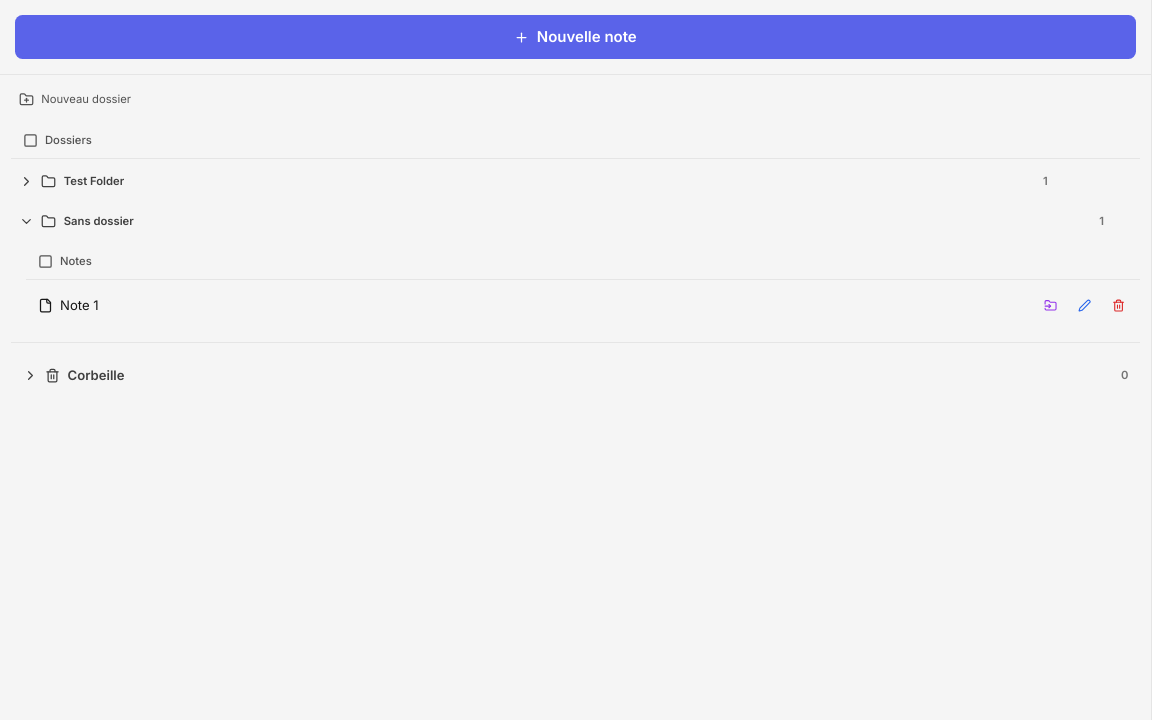
Test: Sidebar › Trash Management › should expand trash when clicking
This screenshot has width=1152, height=720.
Step 1. Click the text "Corbeille" → coordinates (96, 375), box [68,366,124,385]
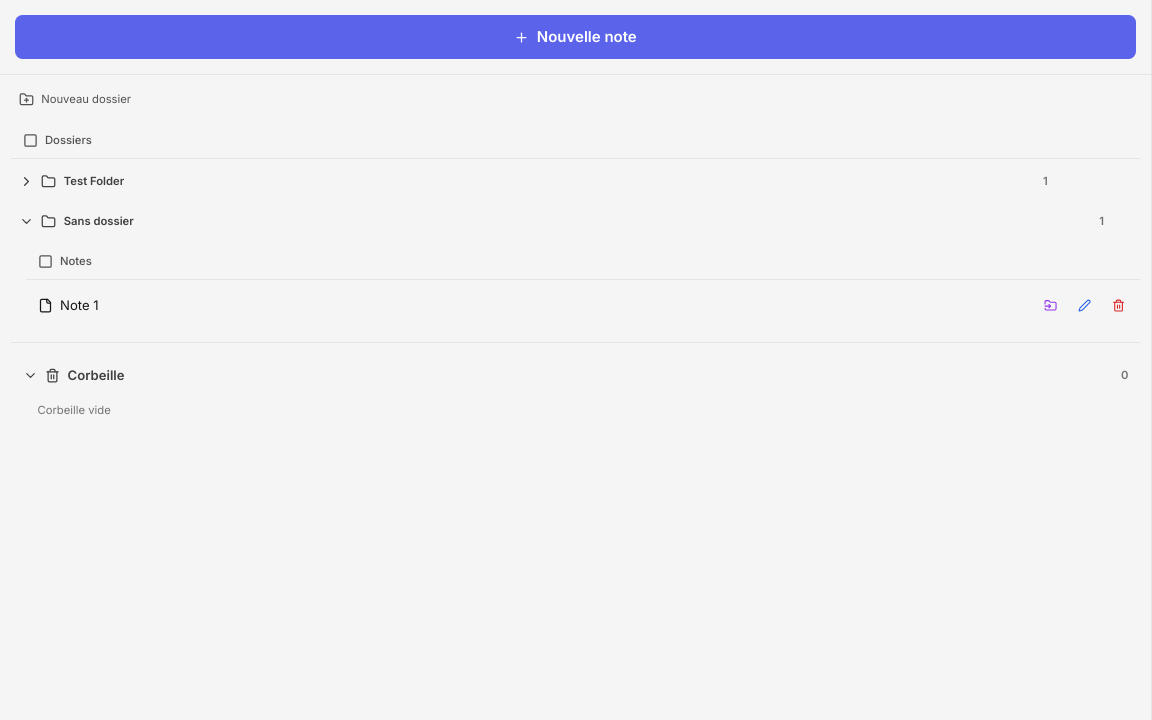
Expected: the text "Corbeille vide" is shown, [38,403,111,417]
